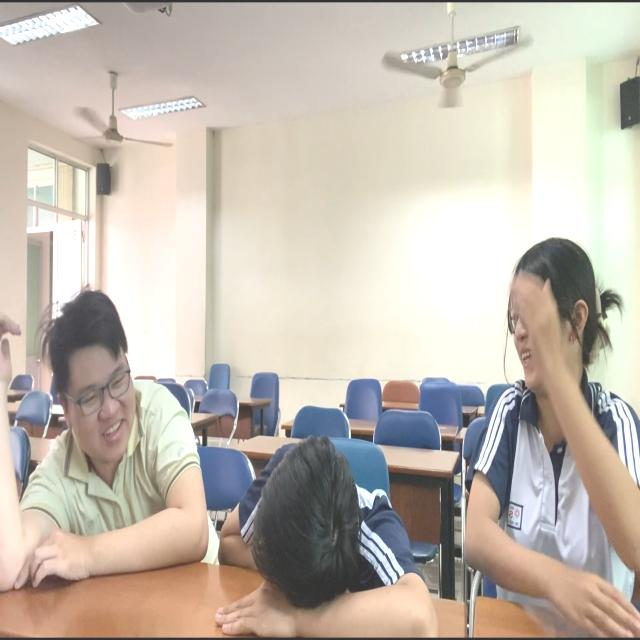raise_hand: (459, 233, 640, 640), (1, 294, 197, 601)
sleep: (220, 402, 422, 633)
